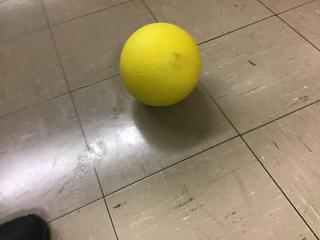power_cell: (119, 24, 202, 104)
